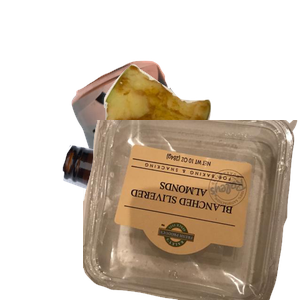glass: (60, 142, 300, 300)
metal: (69, 58, 300, 238)
plastic: (83, 120, 300, 300)
trash: (101, 62, 300, 217)
